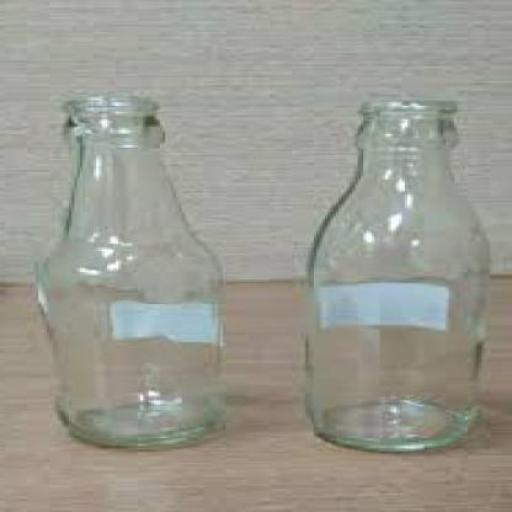glass: (39, 94, 226, 446), (308, 98, 487, 452)
